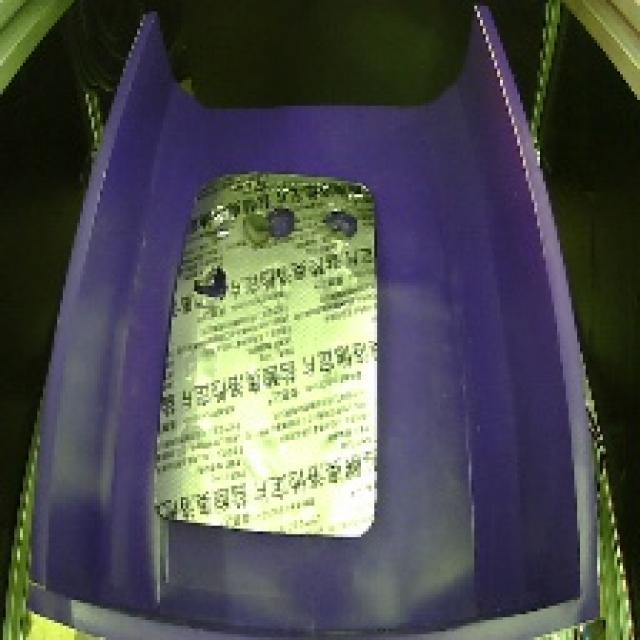med_plate: (142, 155, 390, 558)
